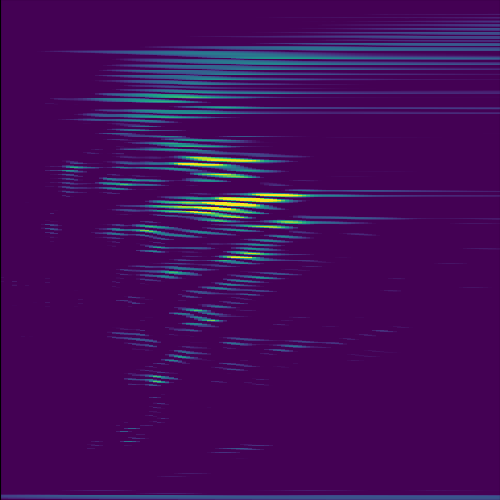semblance: (151, 191, 316, 219), (159, 157, 286, 180)
